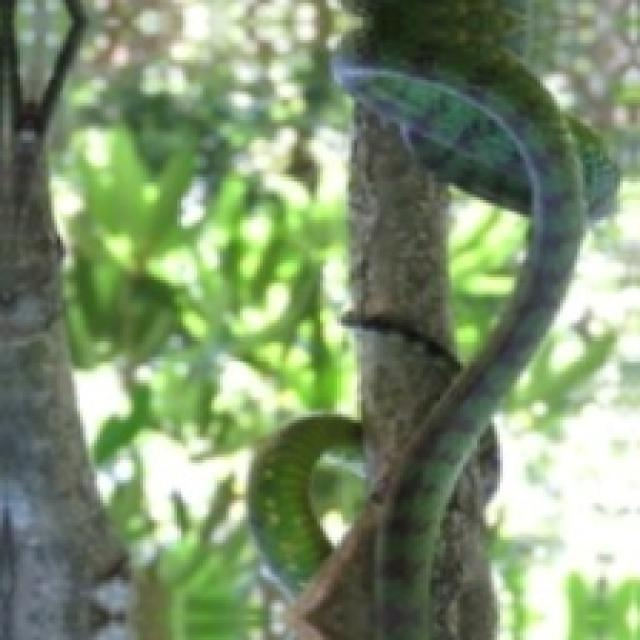philippine pitviper: (294, 0, 614, 637), (249, 415, 361, 592)
